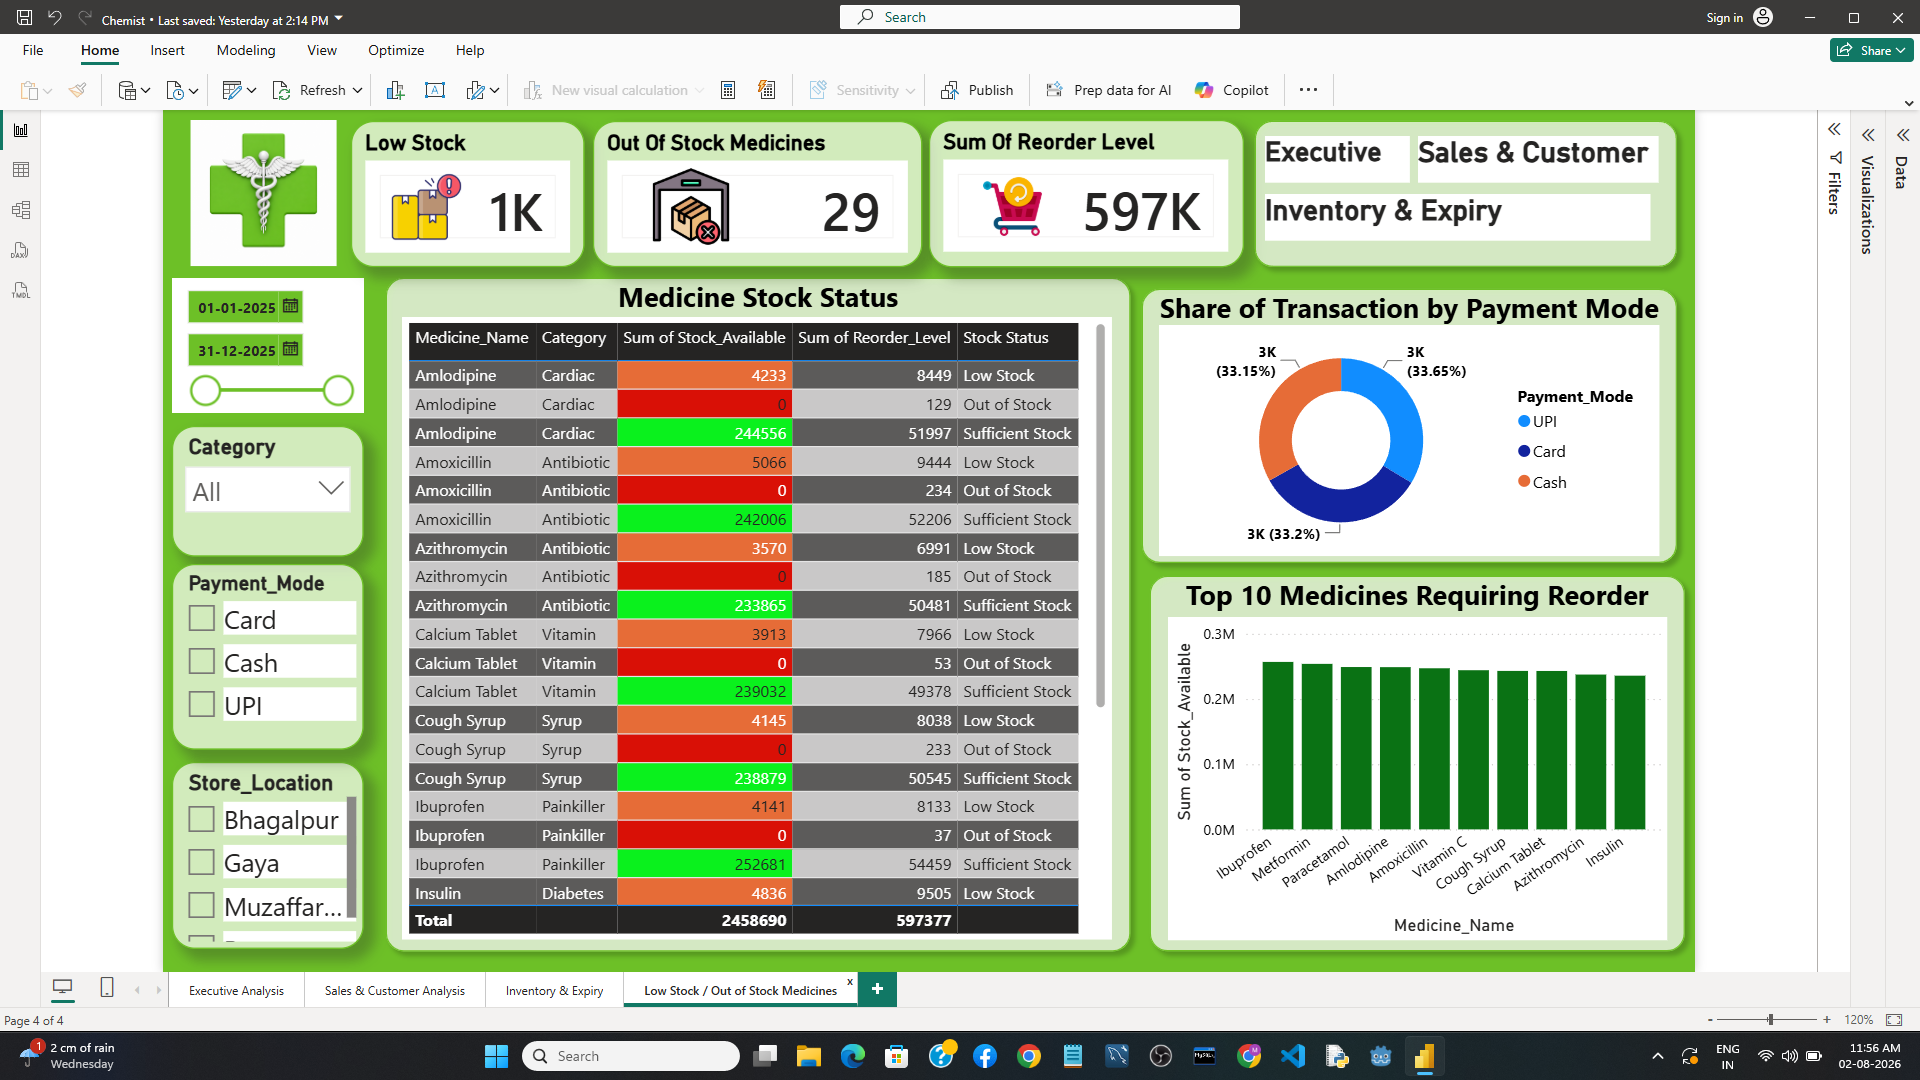

Layout of this report page (visuals, bound fields, positions):
{"tool":"powerbi","page":{"name":"Low Stock / Out of Stock Medicines","canvas":[1280,720],"ordinal":3},"visuals":[{"type":"image","box":[0,8.8,168.3,121.6],"z":0},{"type":"slicer","fields":{"Values":["Chemist_Shop_Dataset_2025_10000_Rows.Date"]},"box":[7.8,140.1,160.5,111.9],"z":1000},{"type":"slicer","fields":{"Values":["Chemist_Shop_Dataset_2025_10000_Rows.Store_Location"]},"box":[7.8,544.7,160.5,155.6],"z":2000},{"type":"slicer","fields":{"Values":["Chemist_Shop_Dataset_2025_10000_Rows.Category"]},"box":[7.8,263.6,160.5,108.9],"z":3000},{"type":"slicer","fields":{"Values":["Chemist_Shop_Dataset_2025_10000_Rows.Payment_Mode"]},"box":[7.8,379.3,160.5,154.7],"z":4000},{"type":"shape","box":[815.1,380.3,464.9,331.7],"z":5000},{"type":"columnChart","fields":{"Category":["Chemist_Shop_Dataset_2025_10000_Rows.Medicine_Name"],"Y":["Sum(Chemist_Shop_Dataset_2025_10000_Rows.Stock_Available)"]},"box":[839.4,423.1,417.3,270.4],"z":6000},{"type":"shape","box":[177,131.3,640,580.7],"z":7000},{"type":"shape","box":[808.3,140.1,464.9,247.1],"z":8000},{"type":"donutChart","fields":{"Y":["Chemist_Shop_Dataset_2025_10000_Rows.Total Transactions"],"Category":["Chemist_Shop_Dataset_2025_10000_Rows.Payment_Mode"]},"box":[831.6,179.9,418.2,192.6],"z":9000},{"type":"cardVisual","title":"Low Stock ","fields":{"Data":["Chemist_Shop_Dataset_2025_10000_Rows.Low Stock Count"]},"box":[157,9,195,122],"z":10000},{"type":"cardVisual","title":"Out Of Stock Medicines","fields":{"Data":["Chemist_Shop_Dataset_2025_10000_Rows.Out of Stock Medicines"]},"box":[359,9,275,122],"z":11000},{"type":"cardVisual","title":"Sum Of Reorder Level","fields":{"Data":["Sum(Chemist_Shop_Dataset_2025_10000_Rows.Reorder_Level)"]},"box":[640,8.8,262.6,122.6],"z":12000},{"type":"tableEx","fields":{"Values":["Chemist_Shop_Dataset_2025_10000_Rows.Medicine_Name","Chemist_Shop_Dataset_2025_10000_Rows.Category","Sum(Chemist_Shop_Dataset_2025_10000_Rows.Stock_Available)","Sum(Chemist_Shop_Dataset_2025_10000_Rows.Reorder_Level)","Chemist_Shop_Dataset_2025_10000_Rows.Stock Status"]},"box":[199.4,173.1,593.3,520.4],"z":13000},{"type":"shape","box":[902.6,0,370.6,140.1],"z":14000},{"type":"actionButton","title":"Executive","box":[920.1,21.4,120.6,38.9],"z":15000},{"type":"actionButton","title":"Inventory & Expiry","box":[920.1,70,321.9,38.9],"z":16000},{"type":"actionButton","title":"Sales & Customer ","box":[1048.5,21.4,201.3,38.9],"z":17000},{"type":"image","box":[666.3,52.5,85.6,56.4],"z":17001},{"type":"image","box":[375.4,47.7,131.3,66.1],"z":17002},{"type":"image","box":[177,50.6,86.6,60.3],"z":17004}]}

Visuals, with their boxes on the page's 1280x720 design canvas (x1, y1, x2, y2). These are canvas units, not pixel positions in the 1920x1080 screenshot, which may show the page scaled, cropped or inside an application window:
image: pyautogui.locateOnScreen(0, 9, 168, 130)
slicer - Chemist_Shop_Dataset_2025_10000_Rows.Date: pyautogui.locateOnScreen(8, 140, 168, 252)
slicer - Chemist_Shop_Dataset_2025_10000_Rows.Store_Location: pyautogui.locateOnScreen(8, 545, 168, 700)
slicer - Chemist_Shop_Dataset_2025_10000_Rows.Category: pyautogui.locateOnScreen(8, 264, 168, 372)
slicer - Chemist_Shop_Dataset_2025_10000_Rows.Payment_Mode: pyautogui.locateOnScreen(8, 379, 168, 534)
shape: pyautogui.locateOnScreen(815, 380, 1280, 712)
columnChart - Chemist_Shop_Dataset_2025_10000_Rows.Medicine_Name x Sum(Chemist_Shop_Dataset_2025_10000_Rows.Stock_Available): pyautogui.locateOnScreen(839, 423, 1257, 694)
shape: pyautogui.locateOnScreen(177, 131, 817, 712)
shape: pyautogui.locateOnScreen(808, 140, 1273, 387)
donutChart - Chemist_Shop_Dataset_2025_10000_Rows.Total Transactions x Chemist_Shop_Dataset_2025_10000_Rows.Payment_Mode: pyautogui.locateOnScreen(832, 180, 1250, 372)
"Low Stock " cardVisual: pyautogui.locateOnScreen(157, 9, 352, 131)
"Out Of Stock Medicines" cardVisual: pyautogui.locateOnScreen(359, 9, 634, 131)
"Sum Of Reorder Level" cardVisual: pyautogui.locateOnScreen(640, 9, 903, 131)
tableEx - Chemist_Shop_Dataset_2025_10000_Rows.Medicine_Name x Chemist_Shop_Dataset_2025_10000_Rows.Category: pyautogui.locateOnScreen(199, 173, 793, 694)
shape: pyautogui.locateOnScreen(903, 0, 1273, 140)
"Executive" actionButton: pyautogui.locateOnScreen(920, 21, 1041, 60)
"Inventory & Expiry" actionButton: pyautogui.locateOnScreen(920, 70, 1242, 109)
"Sales & Customer " actionButton: pyautogui.locateOnScreen(1048, 21, 1250, 60)
image: pyautogui.locateOnScreen(666, 52, 752, 109)
image: pyautogui.locateOnScreen(375, 48, 507, 114)
image: pyautogui.locateOnScreen(177, 51, 264, 111)
